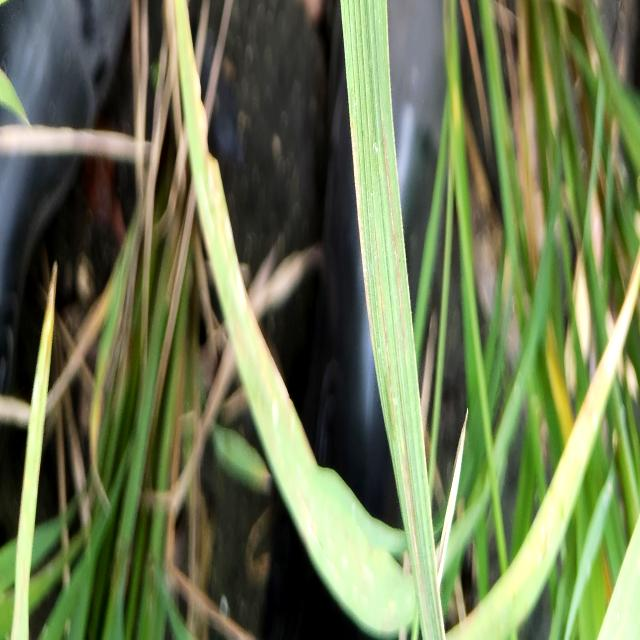NBS: (350, 119, 374, 346), (382, 124, 406, 341), (374, 228, 396, 431), (401, 455, 423, 596)
